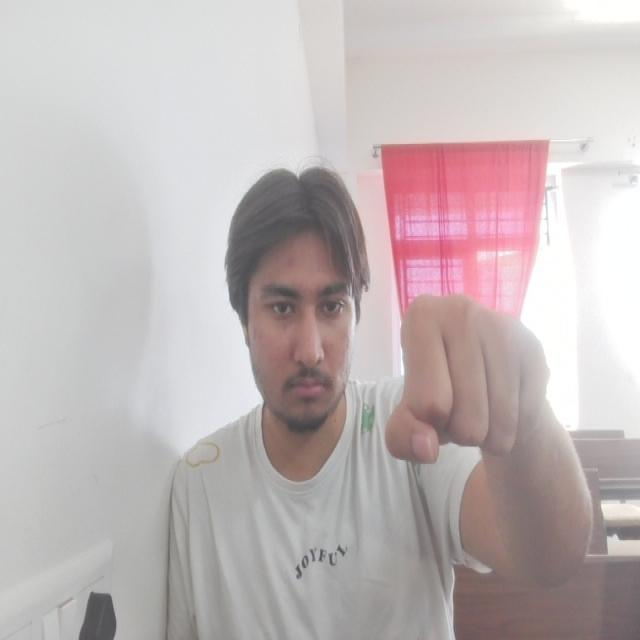yes: (385, 291, 552, 468)
